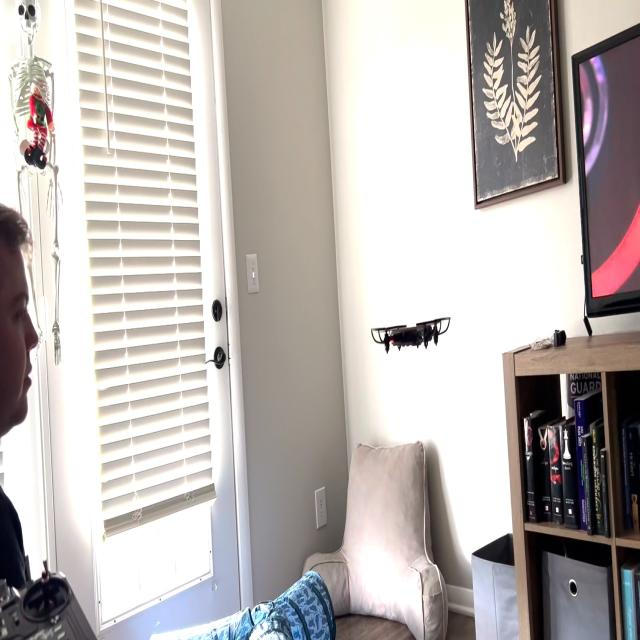drone: (364, 306, 454, 364)
